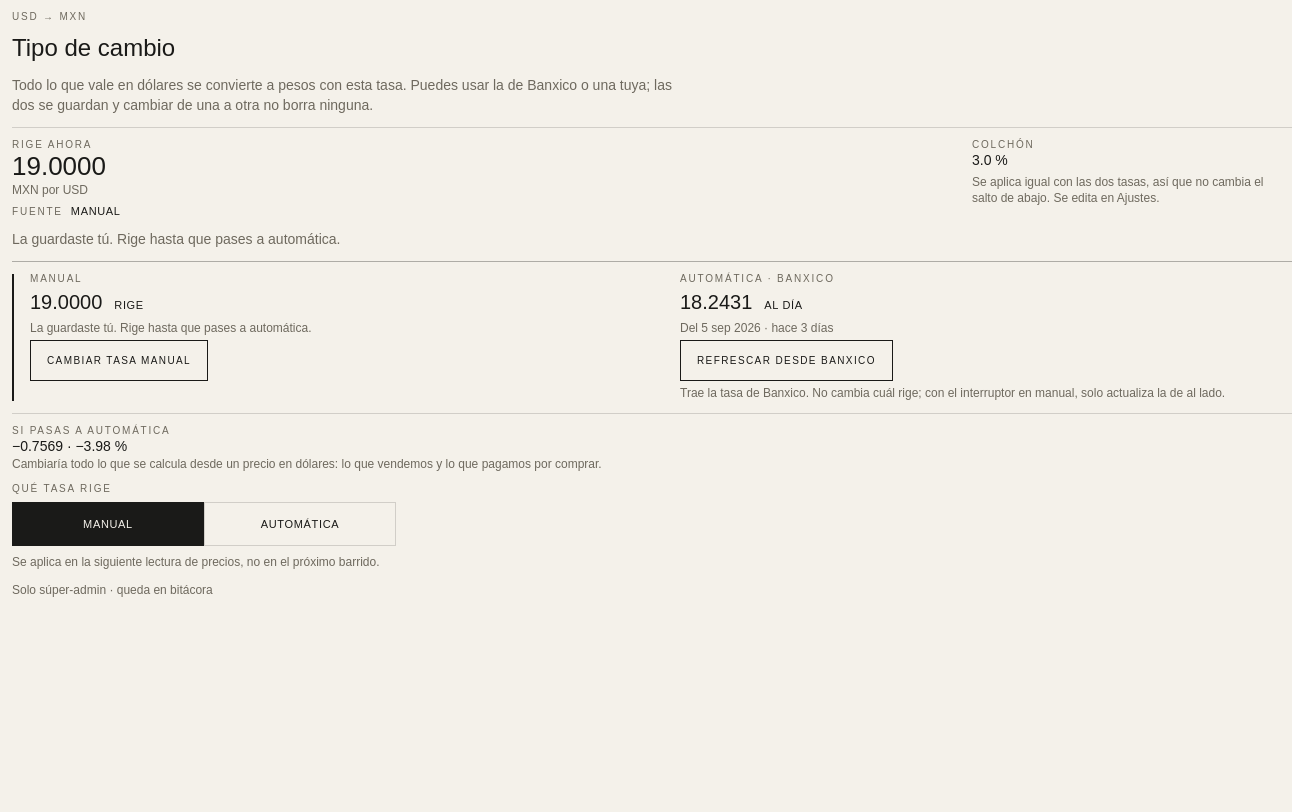
Test: FX-UI-3 ⭐ · el refresco no afirma un éxito que no ocurrió › EL TERCER CASO, el que se olvida: `unchanged` NO es un fallo
Click the button "Refrescar desde Banxico": (786, 361) left=680, top=340, right=893, bottom=381
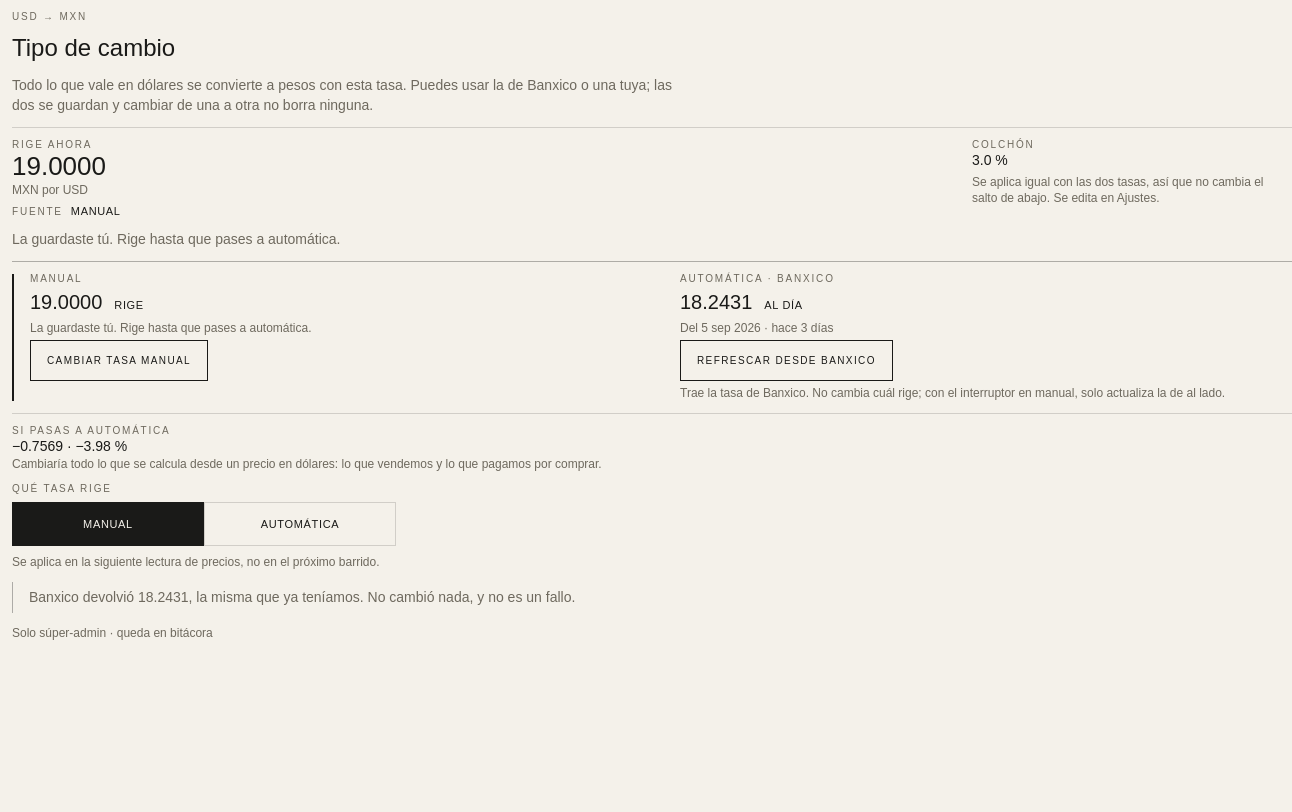
Now the text "la misma que ya teníamos" is shown, box left=29, top=589, right=575, bottom=605
